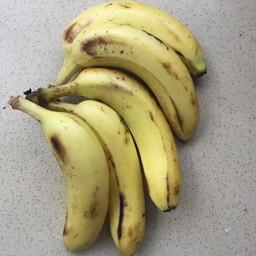Banana Ripe: (29, 0, 208, 150), (36, 59, 187, 221), (45, 0, 226, 79), (29, 112, 115, 256)
